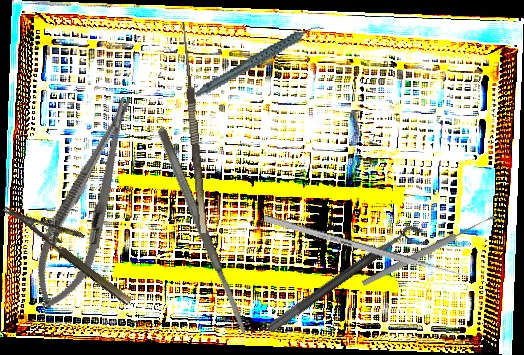Fixation Ring: (265, 219, 431, 347)
Handpiece: (186, 23, 333, 99)
Hook Surgical: (169, 21, 208, 235)
Needle Holder: (21, 88, 154, 318), (2, 185, 145, 308)
Pusher: (263, 214, 471, 282)
Spatula Surgical: (155, 125, 251, 339)
Surgical Spoon: (360, 213, 497, 288)
